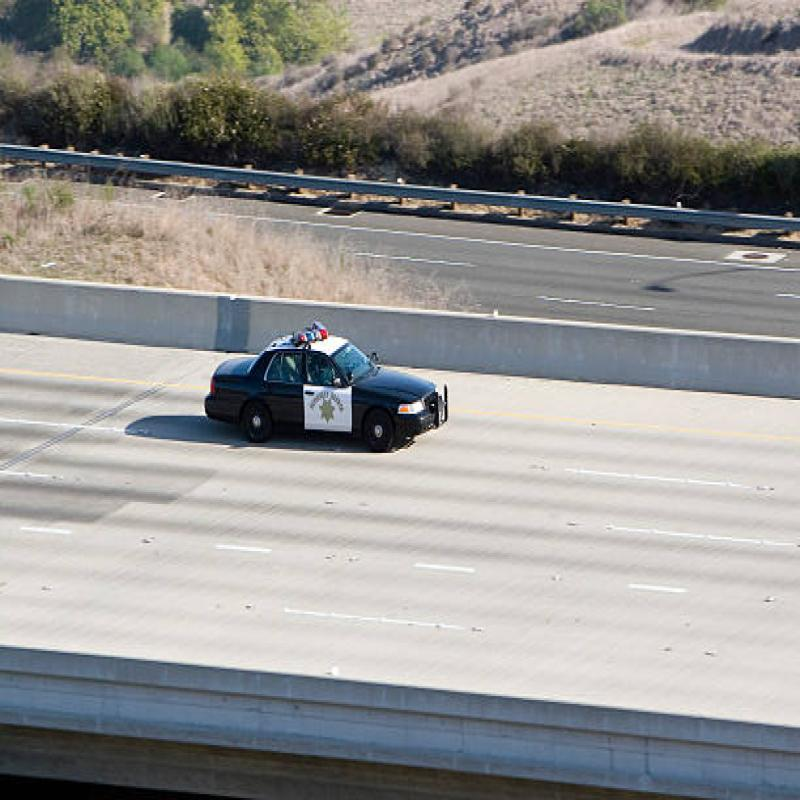AmbulanceSiren: (284, 306, 336, 352)
